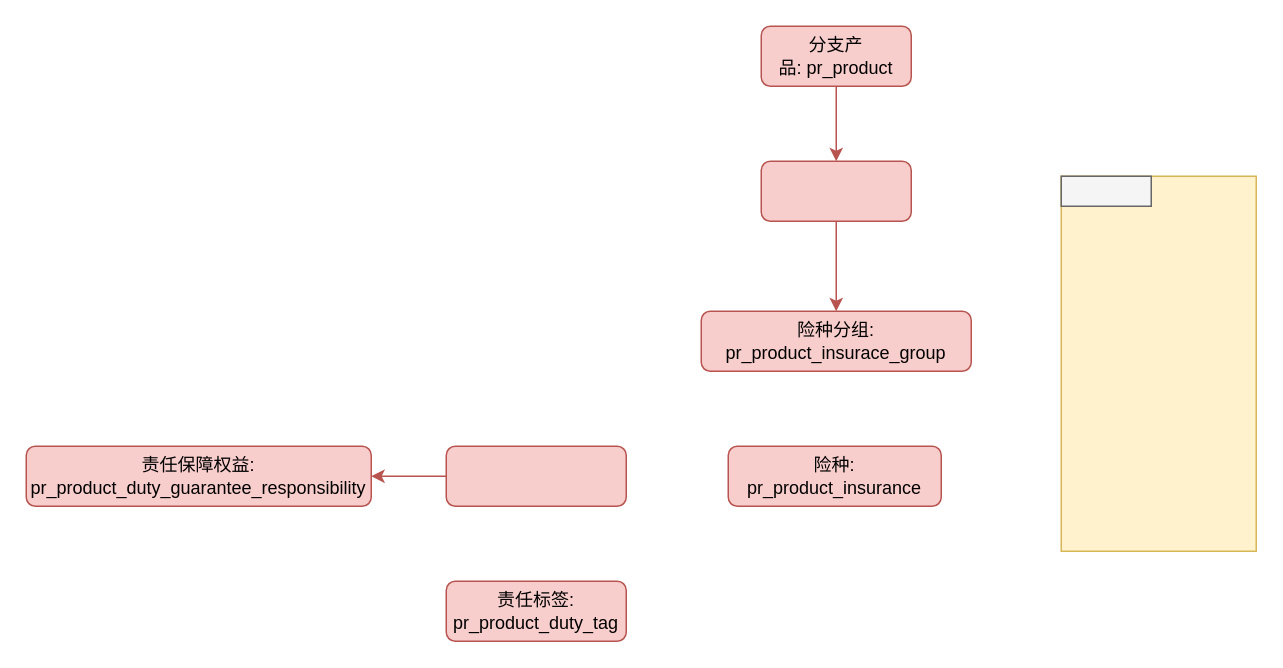
Image size: 1283x668. Some labels were removed from this diagram. The shapes that lost their labels are listed below. From the top down, each one's box as (x1, y1, x2, y2) in pixels, then its label:
(760, 160, 911, 221): 计划: pr_product_plan
(1060, 175, 1151, 206): 字段解释
(445, 445, 626, 506): 责任: pr_product_duty
